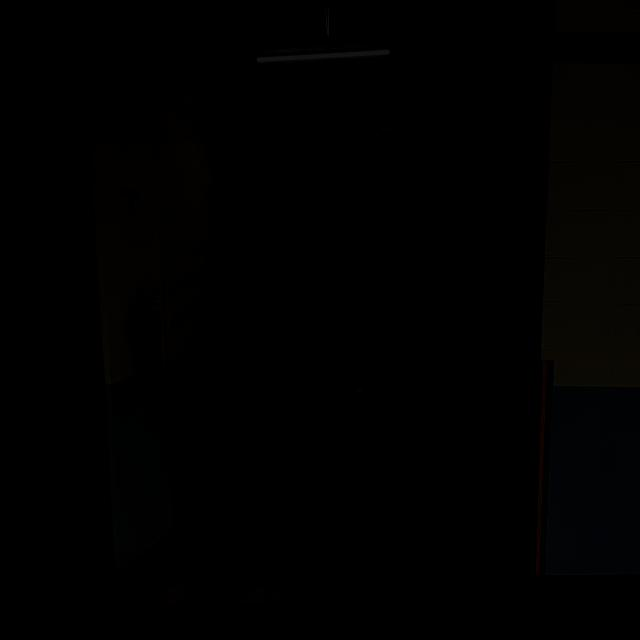empty: (180, 362, 533, 606)
